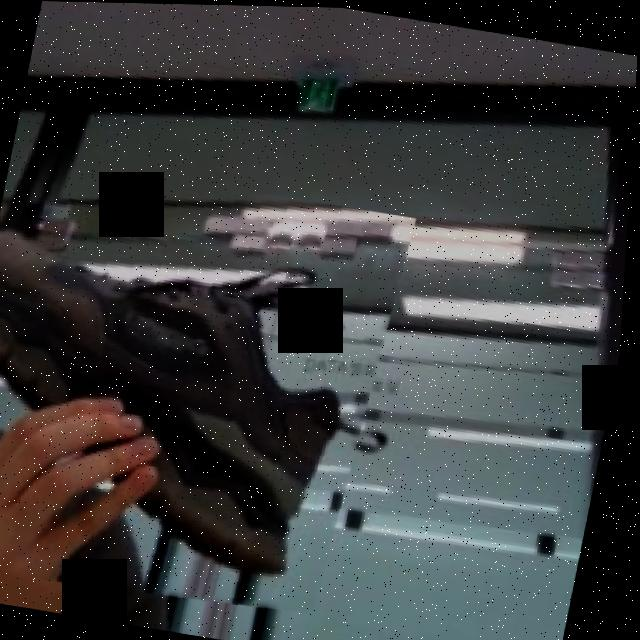shoe: (0, 152, 422, 632)
